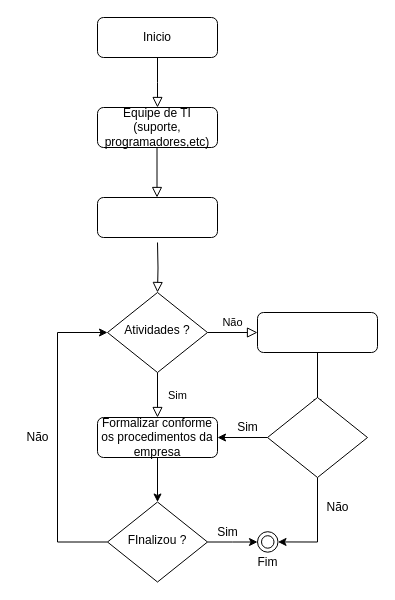
Some shapes in this 395 by 600 pixel diagram are drawn without their labels. The shapes that lost their labels are listed below. From the top down, each one's centre as x and y in pixels, then its label:
point (157, 217): Realizar análise da empresa
point (317, 332): efetuar coisas rotineiras
point (317, 437): nenhuma atividade ainda ?
